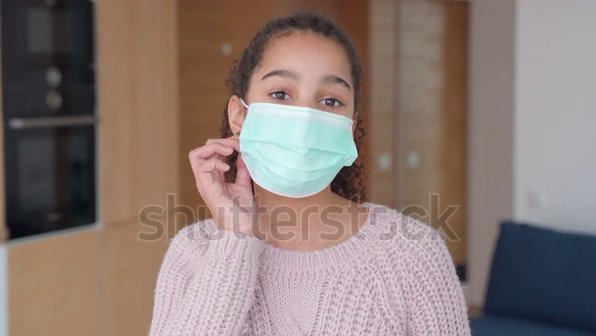Mask: (222, 101, 366, 202)
